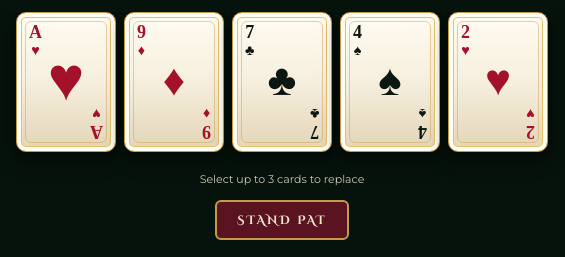
Test case: DiscardControls › tapping a card marks it and shows DRAW 1
Click the button "7 ♣ ♣ 7 ♣": (282, 86) 232,12 -> 332,159
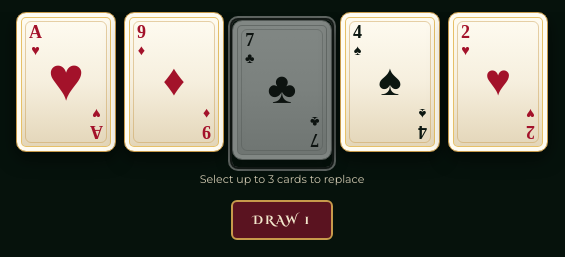
Check: the button "DRAW 1" is shown, box 231,200 -> 333,240
